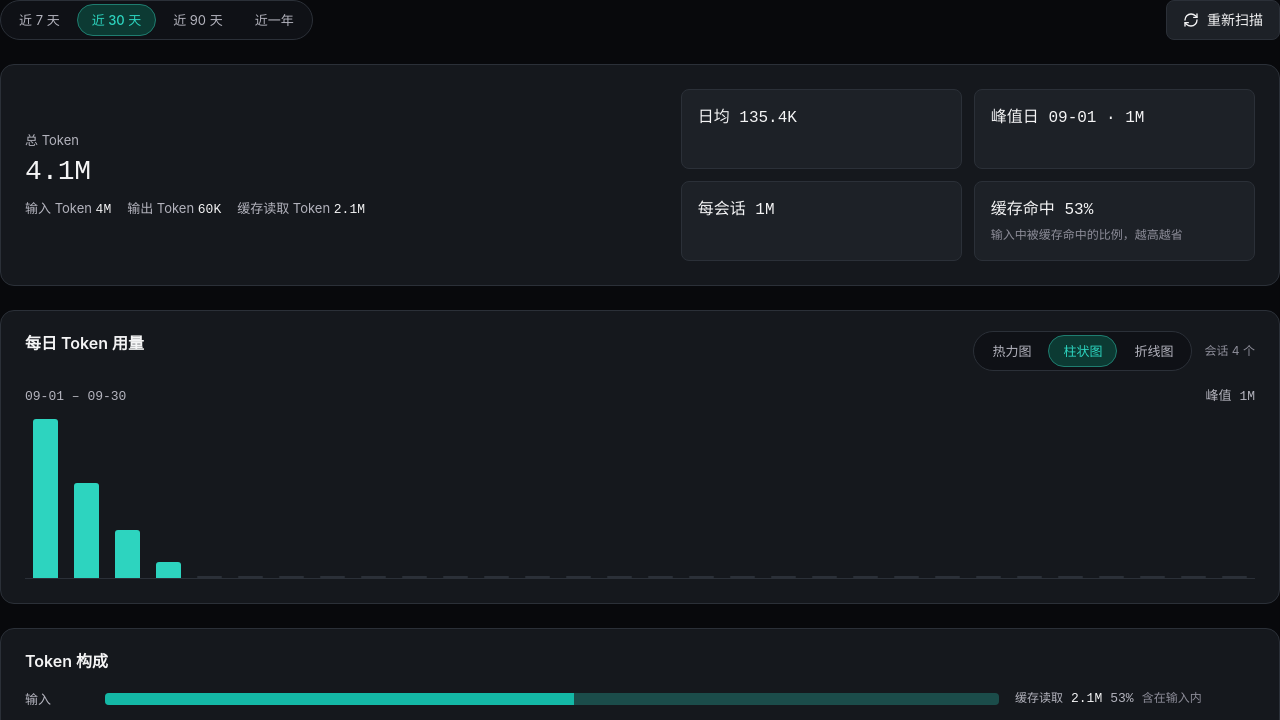
it: 热力图上悬停某格，读数行同样给出那一天的用量与会话数
Expected: the picture named "每日 Token 用量柱状图" is shown, 25,419 -> 1255,579
Click the tab "热力图".
click(1012, 351)  # box 977,335 -> 1046,367
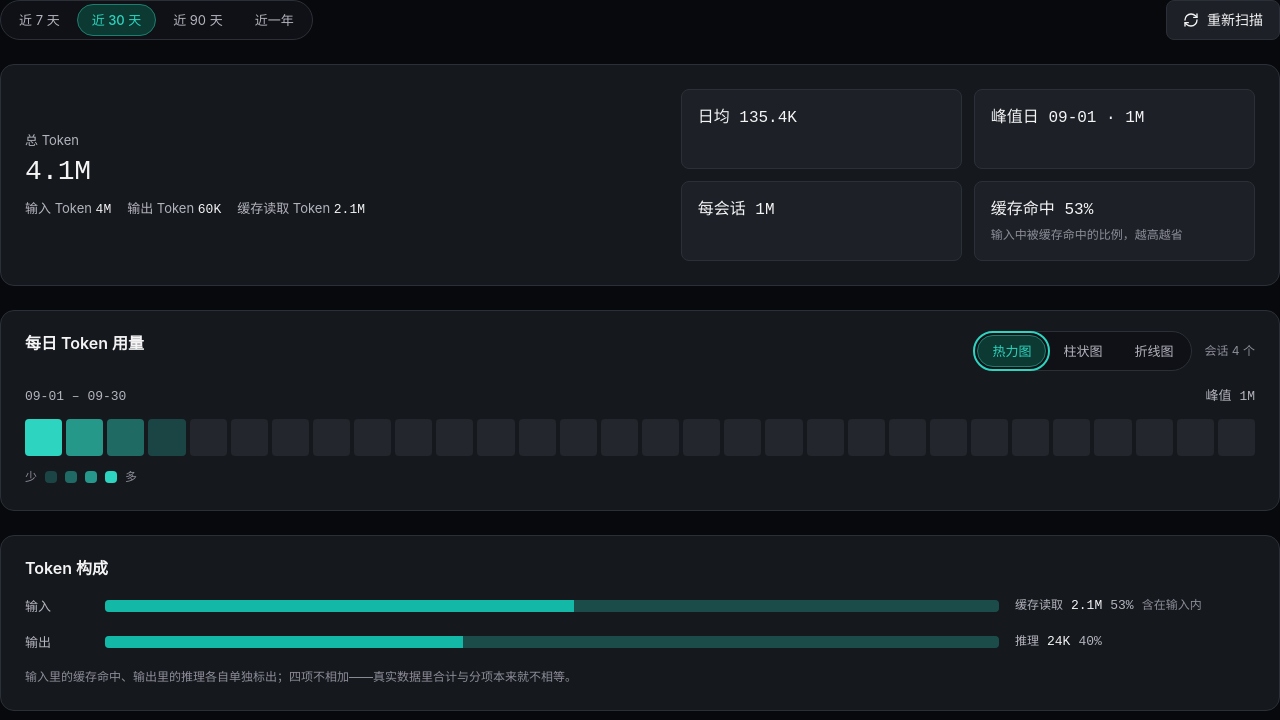
Expected: the text "09-01 – 09-30" is shown, 25,387 -> 126,407
Hover over the element named "2026-09-02 · 600,000 · 会话 2 个".
mouse_move(85, 438)  # box 66,419 -> 103,456
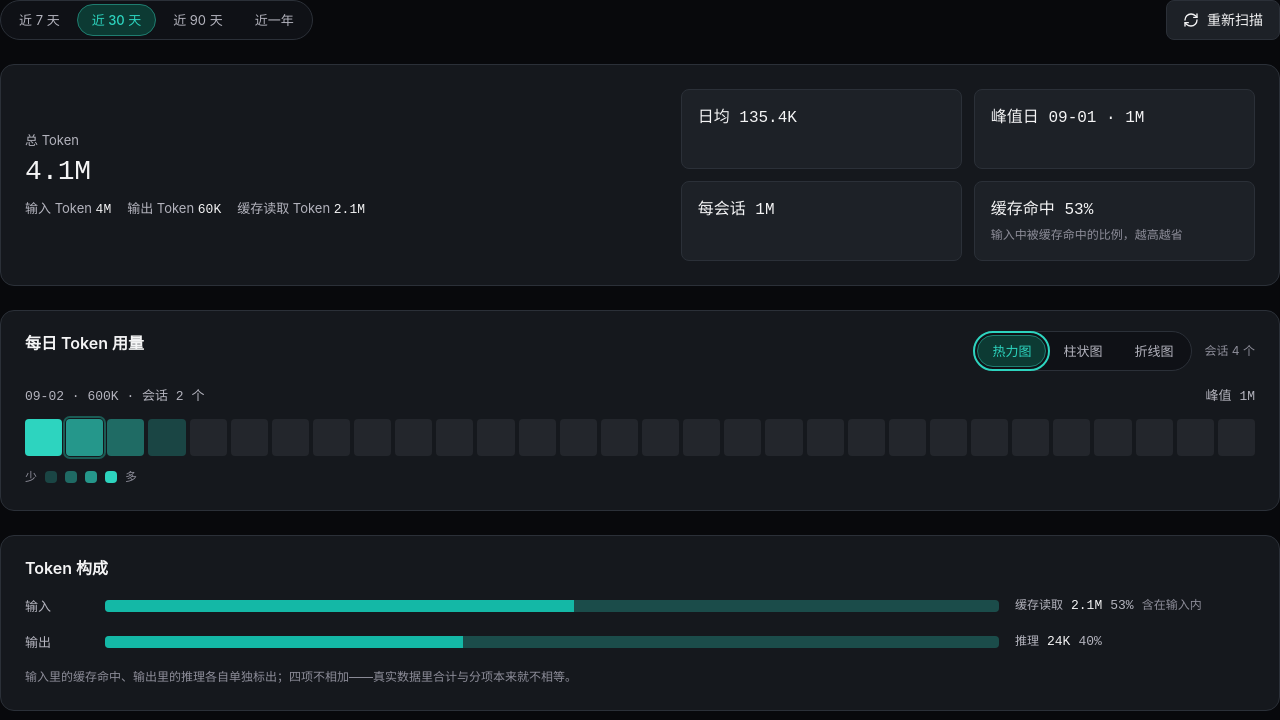
Expected: the element named "2026-09-02 · 600,000 · 会话 2 个" is shown, 66,419 -> 103,456
Expected: the text "09-02 · 600K · 会话 2 个" is shown, 25,387 -> 204,407
